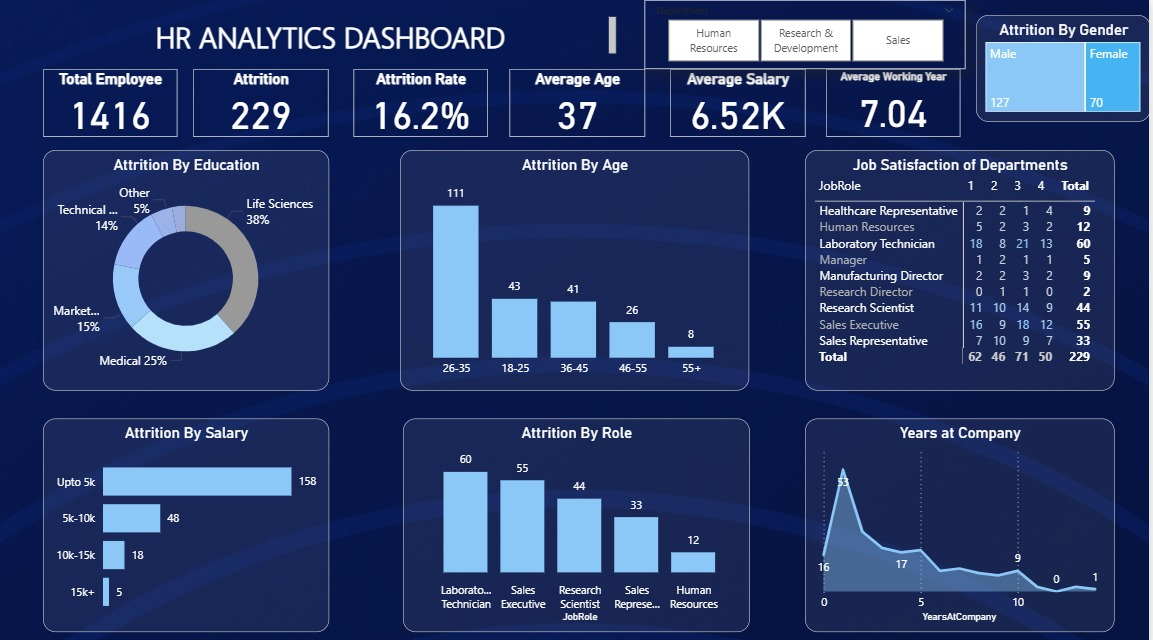

This screenshot's page, from the dashboard's own definition file:
{"tool":"powerbi","page":{"name":"Page 1","canvas":[1280,720],"ordinal":0},"visuals":[{"type":"card","title":"Total Employee","fields":{"Values":["CountNonNull(HR_Analytics.EmpID)"]},"box":[49.3,76.5,149.1,75.2],"z":0},{"type":"card","title":"Attrition","fields":{"Values":["Sum(HR_Analytics.AttritionCount)"]},"box":[216.6,76.5,150.4,75.2],"z":1000},{"type":"card","title":"Attrition Rate","fields":{"Values":["HR_Analytics.AttritionRate"]},"box":[394.2,76.5,149.1,75.2],"z":2000},{"type":"card","title":"Average Age","fields":{"Values":["Avg(HR_Analytics.Age)"]},"box":[568,76.5,150.4,75.2],"z":3000},{"type":"card","title":"Average Salary","fields":{"Values":["Avg(HR_Analytics.MonthlyIncome)"]},"box":[747,76.5,150.4,75.2],"z":4000},{"type":"card","title":"Average Working Year","fields":{"Values":["Avg(HR_Analytics.YearsAtCompany)"]},"box":[919.5,76.5,149.1,75.2],"z":5000},{"type":"donutChart","title":"Attrition By Education","fields":{"Category":["HR_Analytics.EducationField"],"Y":["Sum(HR_Analytics.AttritionCount)"]},"box":[49.3,167.3,317.7,267.2],"z":6000},{"type":"columnChart","title":"Attrition By Age","fields":{"Category":["HR_Analytics.AgeGroup"],"Y":["Sum(HR_Analytics.AttritionCount)"]},"box":[447.4,167.3,387.8,267.2],"z":7000},{"type":"pivotTable","title":"Job Satisfaction of Departments","fields":{"Rows":["HR_Analytics.JobRole"],"Columns":["HR_Analytics.JobSatisfaction"],"Values":["Sum(HR_Analytics.AttritionCount)"]},"box":[897.4,167.3,343.7,267.2],"z":8000},{"type":"barChart","title":"Attrition By Salary","fields":{"Category":["HR_Analytics.SalarySlab"],"Y":["Sum(HR_Analytics.AttritionCount)"]},"box":[49.3,464.3,317.7,237.3],"z":9000},{"type":"columnChart","title":"Attrition By Role","fields":{"Category":["HR_Analytics.JobRole"],"Y":["Sum(HR_Analytics.AttritionCount)"]},"box":[450,464.3,385.2,237.3],"z":10000},{"type":"areaChart","title":"Years at Company","fields":{"Category":["HR_Analytics.YearsAtCompany"],"Y":["Sum(HR_Analytics.AttritionCount)"]},"box":[897.1,464.2,343.8,237.6],"z":11000},{"type":"treemap","title":"Attrition By Gender","fields":{"Group":["HR_Analytics.Gender"],"Values":["Sum(HR_Analytics.AttritionCount)"]},"box":[1086.2,17.2,193.8,118.8],"z":12000},{"type":"slicer","title":"Choose Department","fields":{"Values":["HR_Analytics.Department"]},"box":[718.5,0,356.6,76.5],"z":13000},{"type":"textbox","box":[49.3,13,641.9,51.9],"z":14000}]}

Visuals, with their boxes in screenshot pixels (x1, y1, x2, y2), scaled from the page's 1280x720 canvas onto the 1153x640 screenshot:
"Total Employee" card: BBox(44, 68, 179, 135)
"Attrition" card: BBox(195, 68, 331, 135)
"Attrition Rate" card: BBox(355, 68, 489, 135)
"Average Age" card: BBox(512, 68, 647, 135)
"Average Salary" card: BBox(673, 68, 808, 135)
"Average Working Year" card: BBox(828, 68, 963, 135)
"Attrition By Education" donutChart: BBox(44, 149, 331, 386)
"Attrition By Age" columnChart: BBox(403, 149, 752, 386)
"Job Satisfaction of Departments" pivotTable: BBox(808, 149, 1118, 386)
"Attrition By Salary" barChart: BBox(44, 413, 331, 624)
"Attrition By Role" columnChart: BBox(405, 413, 752, 624)
"Years at Company" areaChart: BBox(808, 413, 1118, 624)
"Attrition By Gender" treemap: BBox(978, 15, 1152, 121)
"Choose Department" slicer: BBox(647, 0, 968, 68)
textbox: BBox(44, 12, 623, 58)
